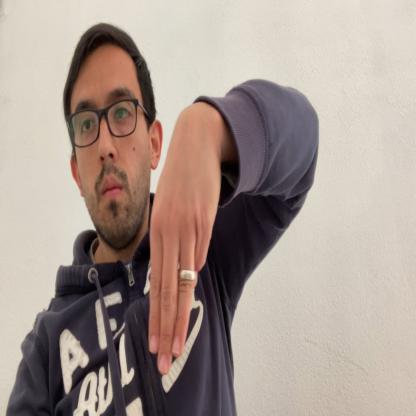M: (148, 102, 223, 376)
